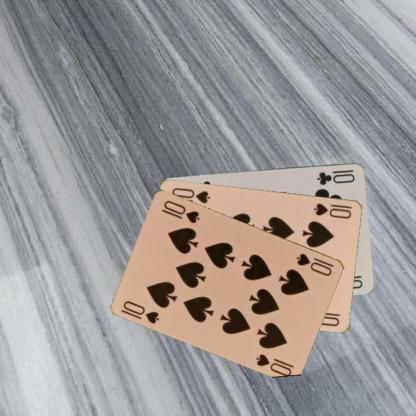10c: (314, 166, 356, 186)
10s: (294, 250, 336, 278), (121, 298, 161, 325), (312, 201, 354, 220)
